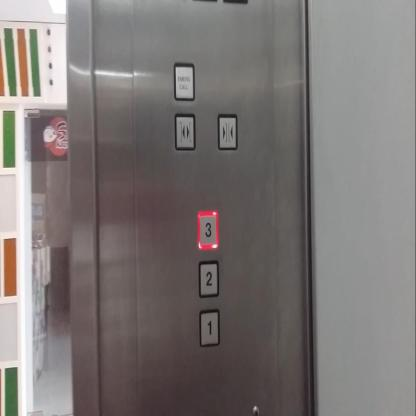1: (197, 308, 220, 347)
2: (197, 258, 220, 300)
3: (197, 210, 220, 250)
close: (216, 111, 238, 151)
open: (173, 112, 197, 150)
text: (173, 62, 195, 102)
